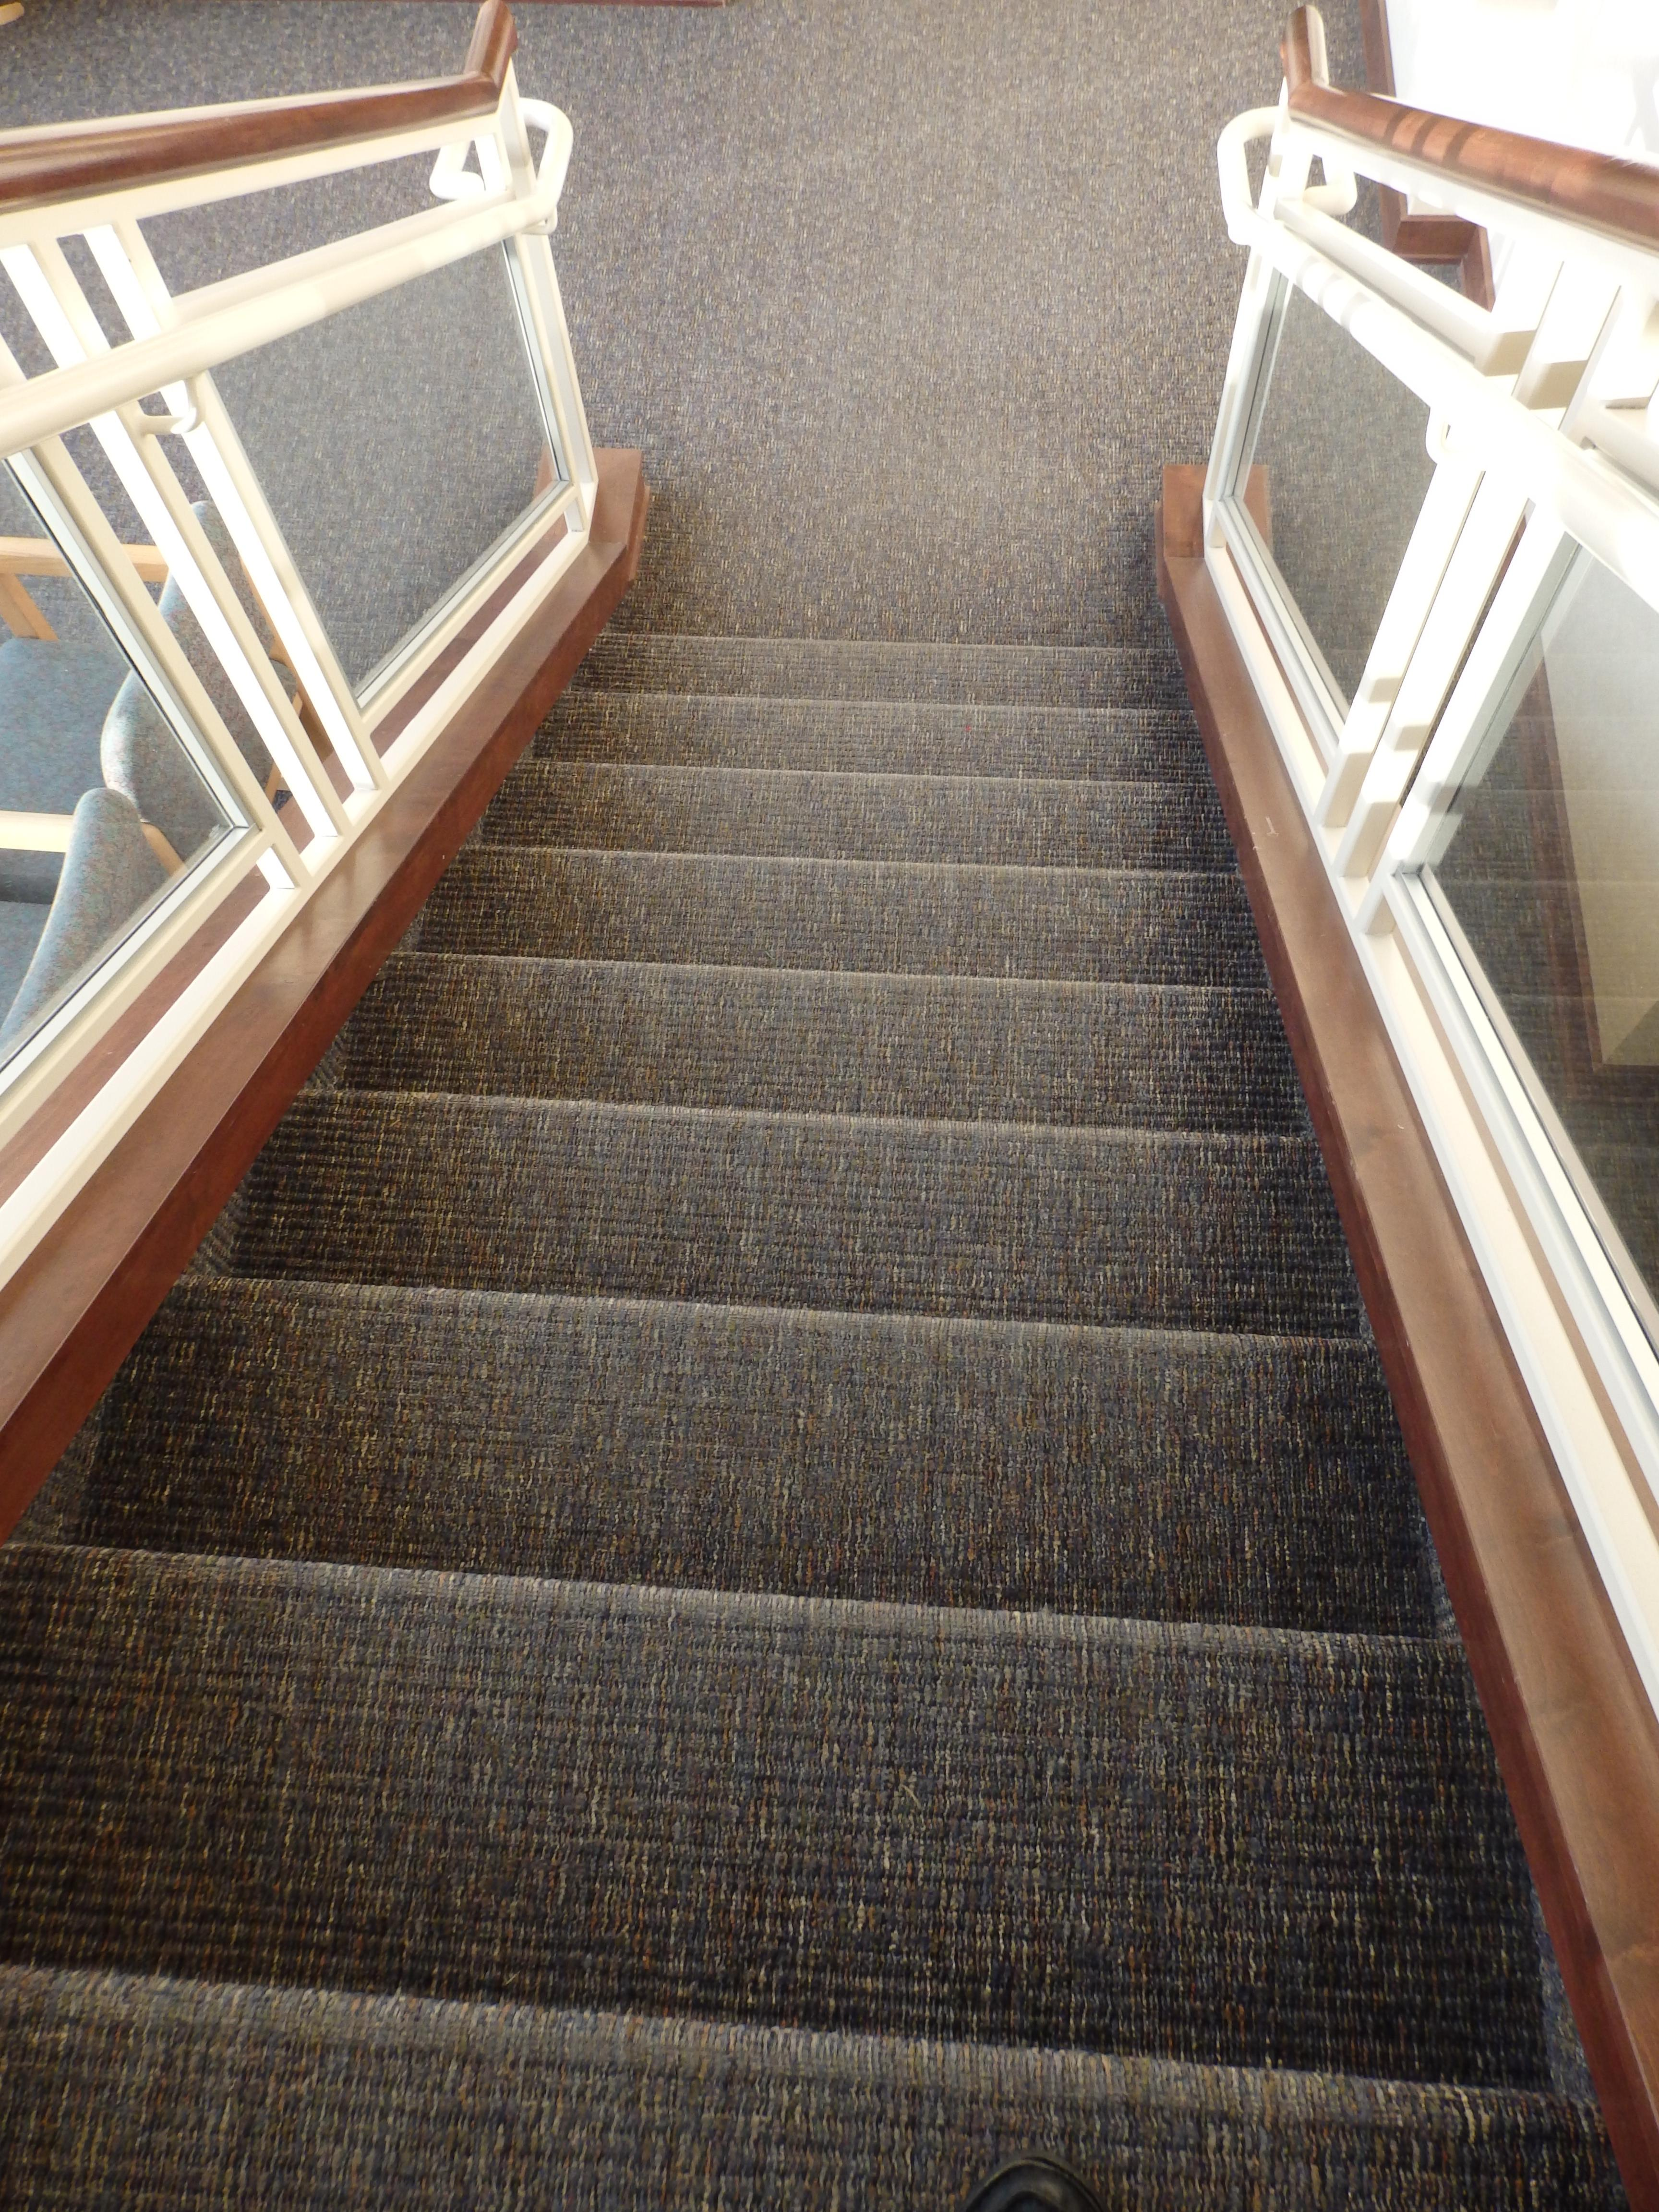stairs_down: (80, 606, 1553, 2202)
